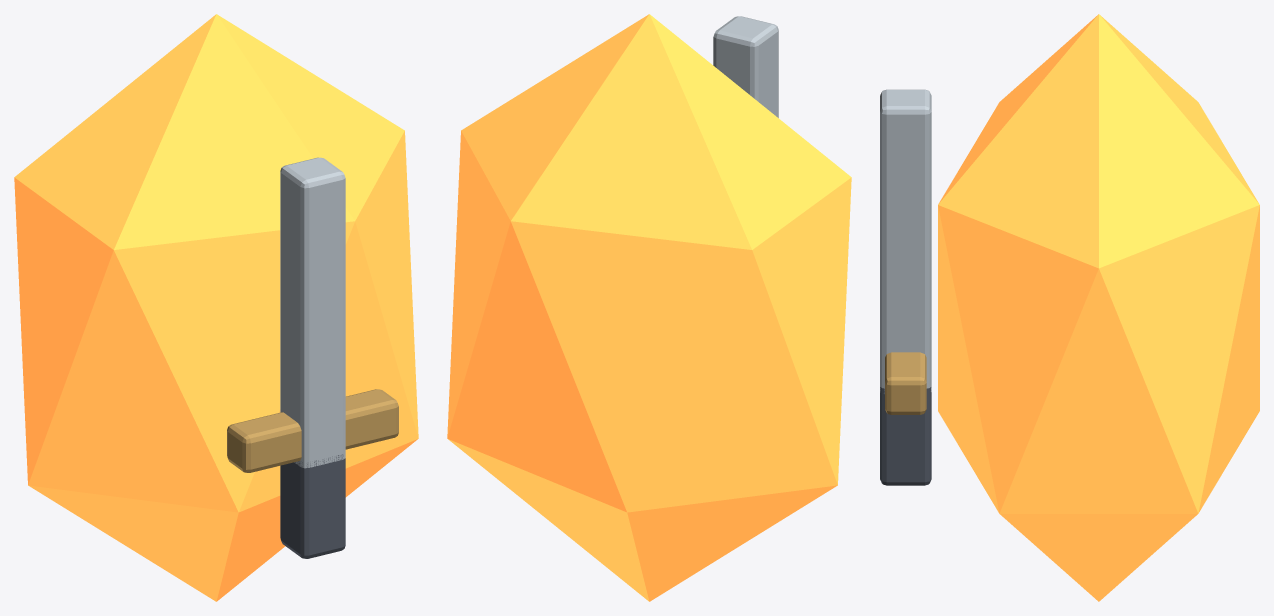
The model's file is attackUp.glb.
3 renders of one model, left to right at view 1: azimuth 30°, elevation 25°; view 2: azimuth 150°, elevation 25°; view 3: azimuth 270°, elevation 25°, orthographic.
Visible parts, largest first — view 1: AttackUpgrade_Gem, AttackUpgrade_Blade, AttackUpgrade_Hilt, AttackUpgrade_Grip; view 2: AttackUpgrade_Gem, AttackUpgrade_Blade; view 3: AttackUpgrade_Gem, AttackUpgrade_Blade, AttackUpgrade_Grip, AttackUpgrade_Hilt.
Boxes of the visible parts, <box> form: AttackUpgrade_Gem: <box>14,14,418,601</box>; AttackUpgrade_Blade: <box>280,157,345,468</box>; AttackUpgrade_Hilt: <box>227,389,398,472</box>; AttackUpgrade_Grip: <box>280,454,345,558</box>; AttackUpgrade_Gem: <box>447,14,851,601</box>; AttackUpgrade_Blade: <box>713,16,778,117</box>; AttackUpgrade_Gem: <box>938,14,1259,601</box>; AttackUpgrade_Blade: <box>880,89,931,393</box>; AttackUpgrade_Grip: <box>880,387,931,485</box>; AttackUpgrade_Hilt: <box>885,352,926,414</box>.
Size of the model in its own units: 0.6762 by 1.01 by 0.5901.
